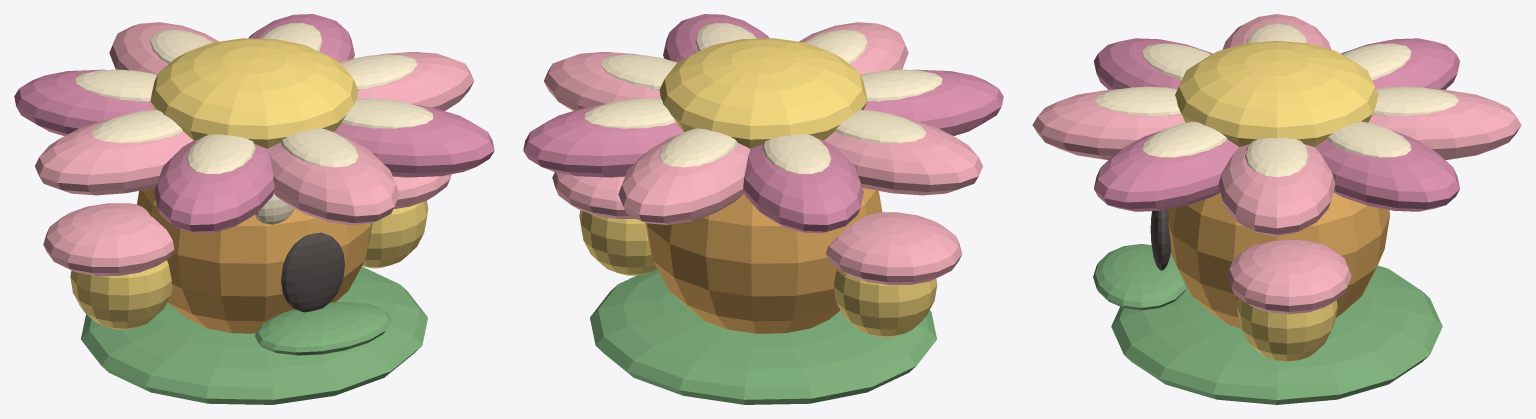
Rendered from BeeFlowerHome2.fbx.
3 renders of one model, left to right at view 1: azimuth 30°, elevation 25°; view 2: azimuth 150°, elevation 25°; view 3: azimuth 270°, elevation 25°, orthographic.
Visible parts, largest first — view 1: Leaf ground base.001, Flower heart.001, Honey bulb.001, Side bud petals, Wide flower petal.014, Wide flower petal.013, Wide flower petal.012, Wide flower petal.015, Landing leaf.001, Wide flower petal.011, Side flower bud, Bee entrance.001 (+14 smaller); view 2: Leaf ground base.001, Honey bulb.001, Flower heart.001, Side bud petals, Wide flower petal.010, Wide flower petal.011, Wide flower petal.012, Wide flower petal.009, Wide flower petal.013, Side flower bud, Wide flower petal.008, Side flower bud.001 (+11 smaller); view 3: Leaf ground base.001, Flower heart.001, Honey bulb.001, Side bud petals.001, Wide flower petal.009, Wide flower petal.015, Wide flower petal.008, Wide flower petal.010, Wide flower petal.014, Landing leaf.001, Side flower bud.001, Wide flower petal.011 (+11 smaller).
Boxes of the visible parts, <box> form: Leaf ground base.001: <box>81,266,427,404</box>; Flower heart.001: <box>150,38,358,148</box>; Honey bulb.001: <box>137,188,372,333</box>; Side bud petals: <box>43,203,174,275</box>; Wide flower petal.014: <box>267,134,399,224</box>; Wide flower petal.013: <box>154,139,274,233</box>; Wide flower petal.012: <box>35,118,193,195</box>; Wide flower petal.015: <box>334,104,494,177</box>; Landing leaf.001: <box>255,301,391,355</box>; Wide flower petal.011: <box>14,69,154,135</box>; Side flower bud: <box>70,260,172,329</box>; Bee entrance.001: <box>281,232,344,312</box>; Leaf ground base.001: <box>590,269,936,404</box>; Honey bulb.001: <box>645,188,882,333</box>; Flower heart.001: <box>659,38,867,148</box>; Side bud petals: <box>826,212,962,284</box>; Wide flower petal.010: <box>618,134,750,224</box>; Wide flower petal.011: <box>743,139,863,233</box>; Wide flower petal.012: <box>824,118,982,195</box>; Wide flower petal.009: <box>523,104,683,177</box>; Wide flower petal.013: <box>863,69,1003,135</box>; Side flower bud: <box>833,268,937,337</box>; Wide flower petal.008: <box>544,52,660,110</box>; Side flower bud.001: <box>579,210,656,275</box>; Leaf ground base.001: <box>1111,265,1442,404</box>; Flower heart.001: <box>1175,40,1378,146</box>; Honey bulb.001: <box>1168,192,1389,328</box>; Side bud petals.001: <box>1226,240,1351,314</box>; Wide flower petal.009: <box>1315,131,1459,211</box>; Wide flower petal.015: <box>1094,131,1238,211</box>; Wide flower petal.008: <box>1218,144,1335,235</box>; Wide flower petal.010: <box>1368,89,1521,159</box>; Wide flower petal.014: <box>1032,89,1185,159</box>; Landing leaf.001: <box>1093,244,1186,310</box>; Side flower bud.001: <box>1236,297,1337,362</box>; Wide flower petal.011: <box>1341,38,1459,89</box>.
Bounding box in the file's own units: 242 × 160 × 242.
